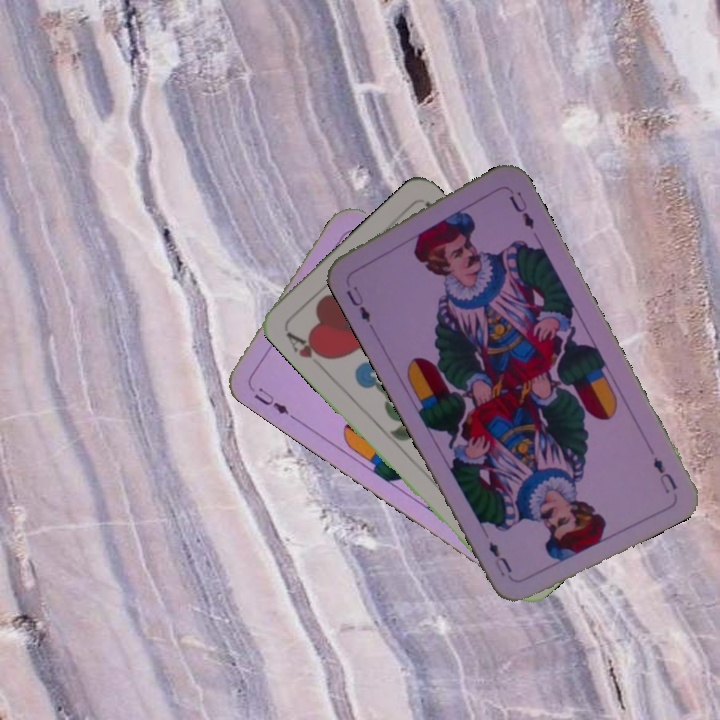EU: (244, 380, 296, 421), (342, 282, 374, 326), (649, 453, 680, 497)
HA: (282, 327, 332, 373)
